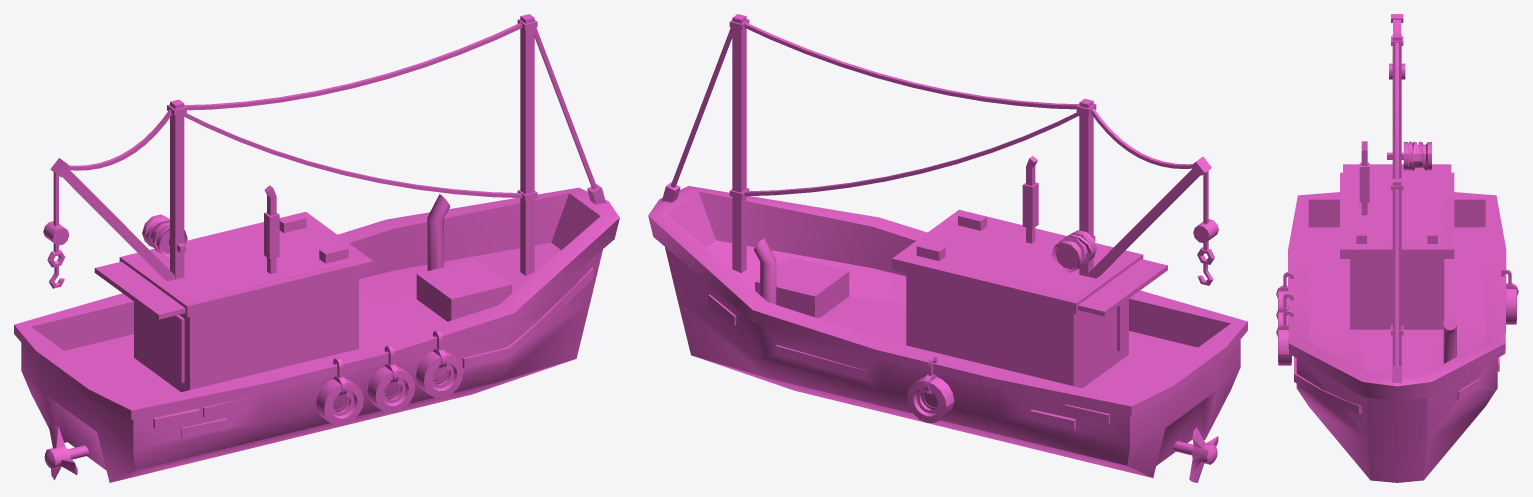
The picture shows the model from 3 angles, left to right: view 1: azimuth 30°, elevation 25°; view 2: azimuth 150°, elevation 25°; view 3: azimuth 270°, elevation 25°; orthographic projection. The views are drawn at different scales.
Visible parts, largest first — view 1: split_parent_0; view 2: split_parent_0; view 3: split_parent_0.
Part boxes in pixels (x1,y1,x2,y2): split_parent_0: (14,14,619,482); split_parent_0: (648,14,1247,482); split_parent_0: (1276,14,1518,482).
Size of the model in its own units: 1 by 0.6007 by 0.4413.
